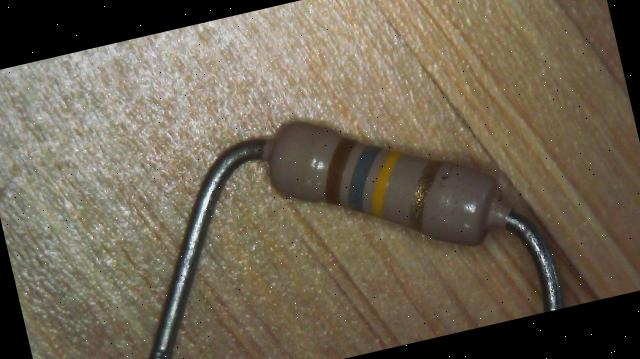brown: (314, 136, 368, 206)
gold: (398, 159, 452, 233)
grey: (338, 142, 392, 212)
resistor: (245, 98, 535, 272)
yellow: (358, 147, 412, 218)
